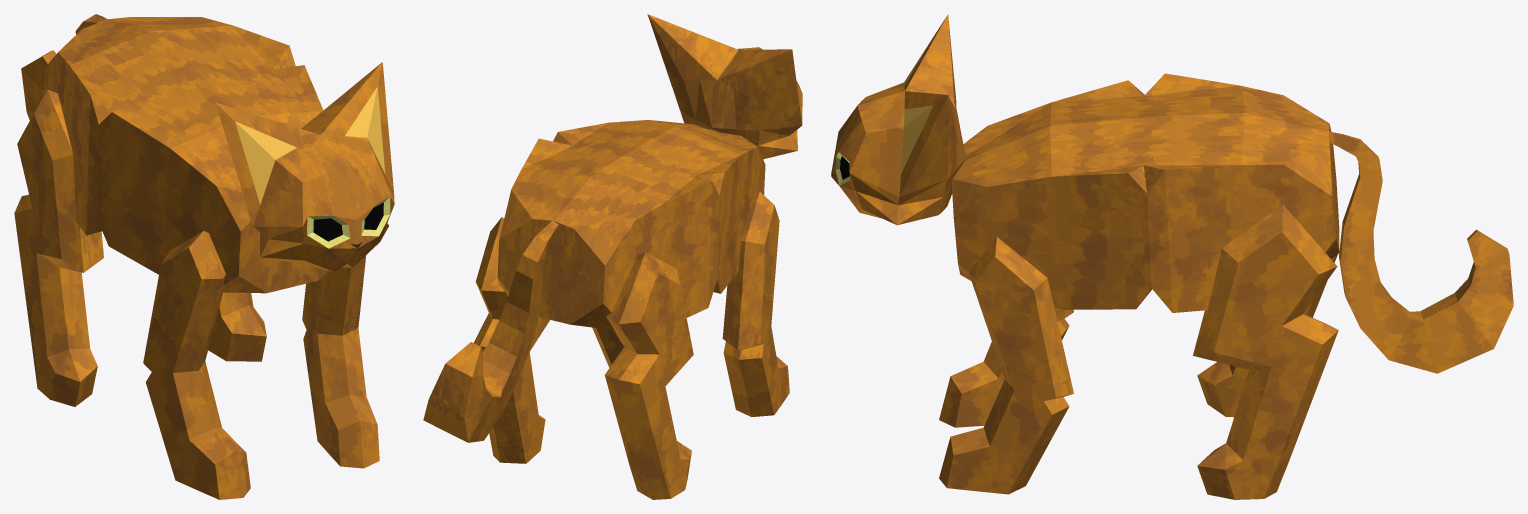
Rendered from cat_model.glb.
3 views of the same model, side by side, from view 1: azimuth 30°, elevation 25°; view 2: azimuth 150°, elevation 25°; view 3: azimuth 270°, elevation 25° (orthographic). The views are drawn at different scales.
Visible parts, largest first — view 1: body; view 2: body; view 3: body.
Part boxes in pixels (x1,y1,x2,y2): body: [14, 14, 394, 499]; body: [423, 14, 802, 499]; body: [831, 14, 1513, 499].
Size of the model in its own units: 0.3049 by 0.554 by 0.8681.
5 materials, 2 textured.
